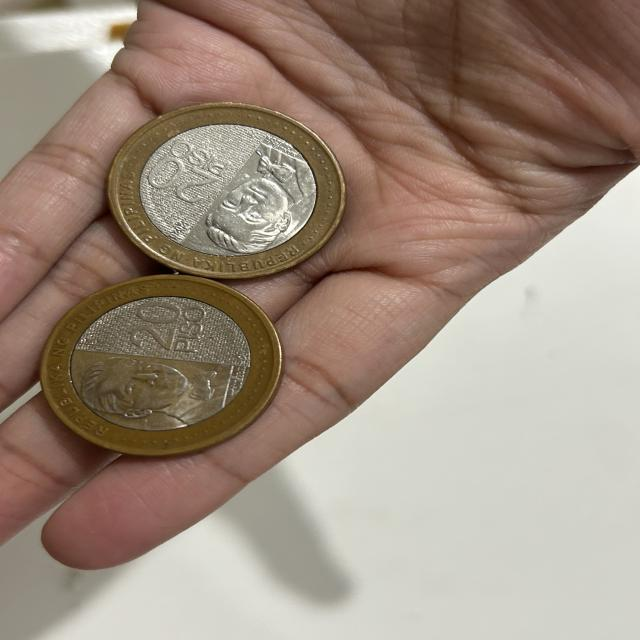20_New_Front: (128, 296, 218, 357), (152, 136, 226, 208)
